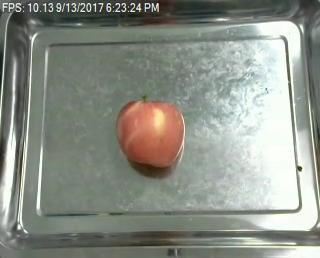apple: (114, 96, 185, 166)
